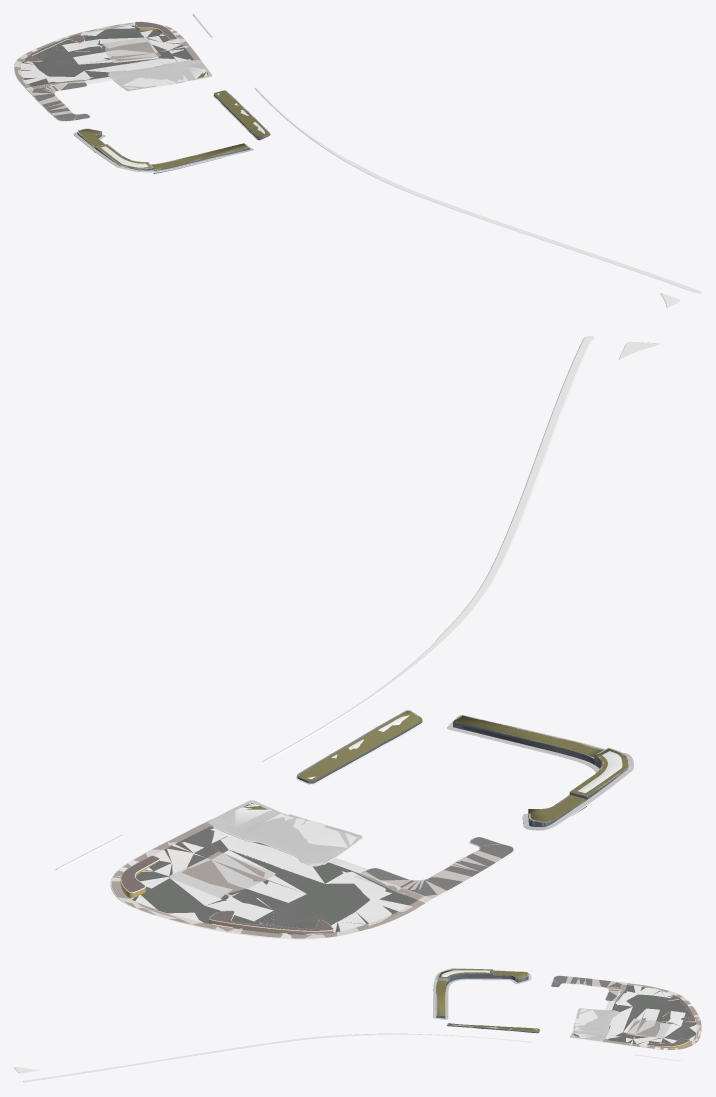
File: garage_curbs.dae
3 renders of one model, top to bottom at view 1: azimuth 30°, elevation 25°; view 2: azimuth 150°, elevation 25°; view 3: azimuth 270°, elevation 25°, orthographic. The views are drawn at different scales.
Parts seen in each view (by area): view 1: sidewalk_gasstation_north_a1000, sidewalk_gasstation_north_a500; view 2: sidewalk_gasstation_north_a1000, sidewalk_gasstation_north_a500; view 3: sidewalk_gasstation_north_a1000, sidewalk_gasstation_north_a500.
Part boxes in pixels (bbox=[...]): sidewalk_gasstation_north_a1000: bbox=[14, 14, 701, 307]; sidewalk_gasstation_north_a500: bbox=[14, 22, 269, 172]; sidewalk_gasstation_north_a1000: bbox=[55, 336, 660, 939]; sidewalk_gasstation_north_a500: bbox=[111, 711, 633, 938]; sidewalk_gasstation_north_a1000: bbox=[14, 969, 701, 1082]; sidewalk_gasstation_north_a500: bbox=[433, 968, 701, 1049].
Size of the model in its own units: 114 by 284 by 5.76.
